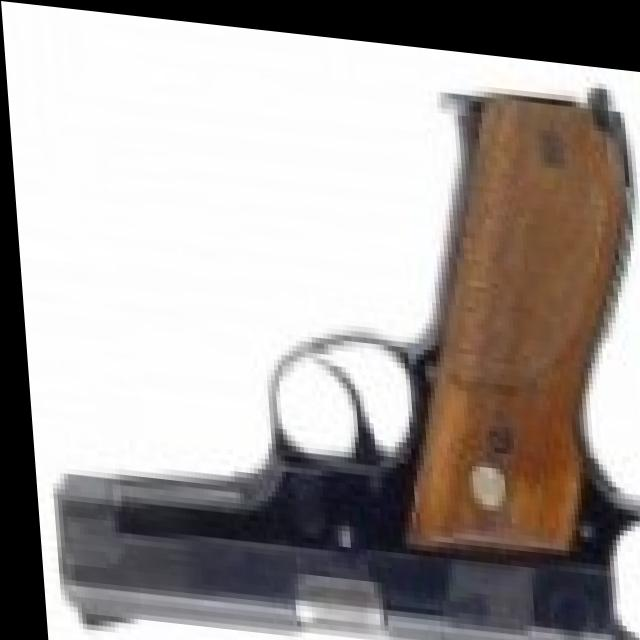handgun: (18, 33, 640, 640)
